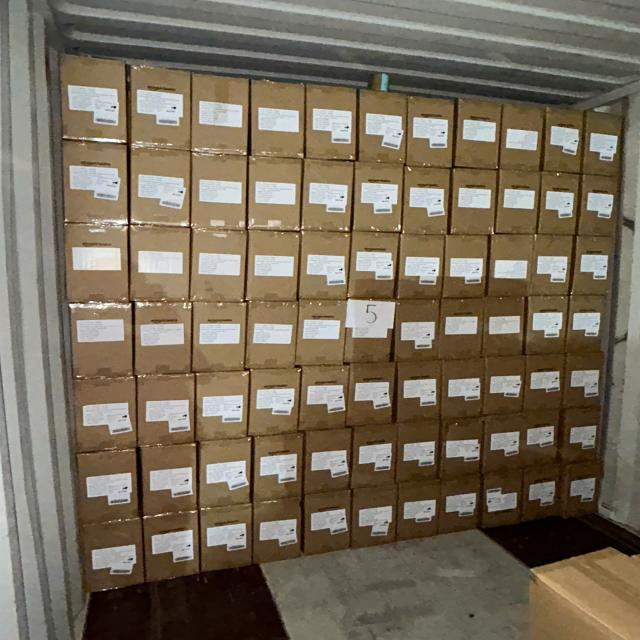Carton: (59, 56, 128, 148), (62, 140, 128, 225), (63, 221, 129, 303), (130, 64, 192, 150), (129, 146, 190, 228), (69, 375, 135, 450), (192, 72, 249, 158), (80, 522, 146, 595), (69, 305, 133, 380), (130, 224, 191, 302), (77, 450, 141, 524), (252, 77, 307, 158), (192, 154, 249, 232), (133, 301, 191, 376), (192, 229, 249, 305), (139, 376, 198, 449), (140, 442, 197, 516), (250, 157, 304, 232), (304, 85, 355, 163), (146, 515, 202, 586), (194, 302, 248, 374), (197, 437, 251, 508), (195, 371, 248, 442), (249, 232, 301, 304), (301, 160, 351, 234), (358, 89, 406, 165), (201, 506, 253, 575), (247, 302, 298, 372), (253, 434, 304, 503), (250, 368, 301, 437), (299, 232, 349, 302), (408, 94, 455, 168), (354, 164, 403, 234), (254, 498, 304, 566), (350, 233, 398, 301), (343, 297, 393, 362), (302, 430, 351, 496), (304, 488, 353, 554), (298, 363, 347, 429), (300, 298, 348, 365), (404, 168, 450, 236), (458, 98, 502, 169), (348, 364, 396, 428), (452, 170, 497, 238), (400, 236, 446, 302), (504, 103, 546, 173), (442, 235, 487, 300), (395, 300, 441, 363), (488, 235, 533, 298), (351, 426, 396, 489), (496, 172, 540, 236), (351, 486, 396, 548), (397, 363, 442, 424), (545, 107, 585, 175), (439, 299, 482, 361), (540, 174, 581, 238), (399, 481, 443, 540), (577, 175, 618, 238), (572, 236, 615, 296), (440, 358, 482, 419), (439, 418, 481, 479), (567, 294, 610, 353), (398, 422, 440, 482), (484, 355, 525, 416), (534, 235, 574, 297), (528, 295, 570, 354), (484, 296, 525, 356), (559, 407, 602, 463), (582, 113, 620, 176), (482, 472, 523, 530), (482, 412, 522, 470), (443, 477, 484, 533), (525, 467, 565, 524), (563, 352, 605, 406), (525, 409, 563, 468), (563, 461, 602, 518), (528, 353, 566, 409)
